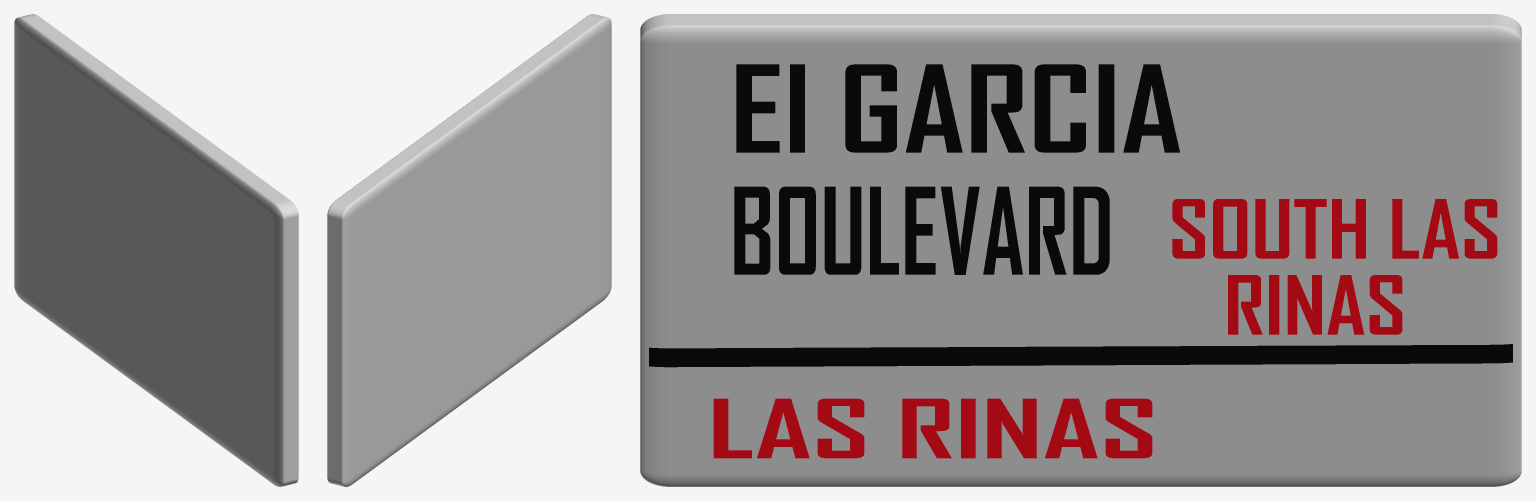
Rendered from uk_styled_street_sign_3.fbx.
The picture shows the model from 3 angles, left to right: view 1: azimuth 30°, elevation 25°; view 2: azimuth 150°, elevation 25°; view 3: azimuth 270°, elevation 25°; orthographic projection. The views are drawn at different scales.
Parts seen in each view (by area): view 1: Cube; view 2: Cube; view 3: Cube, Text, Text.001, Text.002, Text.003, Text.004.
Boxes of the visible parts, left/top/right/bottom form: Cube: left=14, top=14, right=298, bottom=486; Cube: left=327, top=14, right=611, bottom=486; Cube: left=640, top=14, right=1521, bottom=486; Text: left=736, top=64, right=1179, bottom=152; Text.001: left=734, top=186, right=1109, bottom=274; Text.002: left=713, top=398, right=1152, bottom=458; Text.003: left=1172, top=199, right=1497, bottom=258; Text.004: left=1228, top=275, right=1402, bottom=334.
Size of the model in its own units: 1.63 by 20.07 by 34.74.
